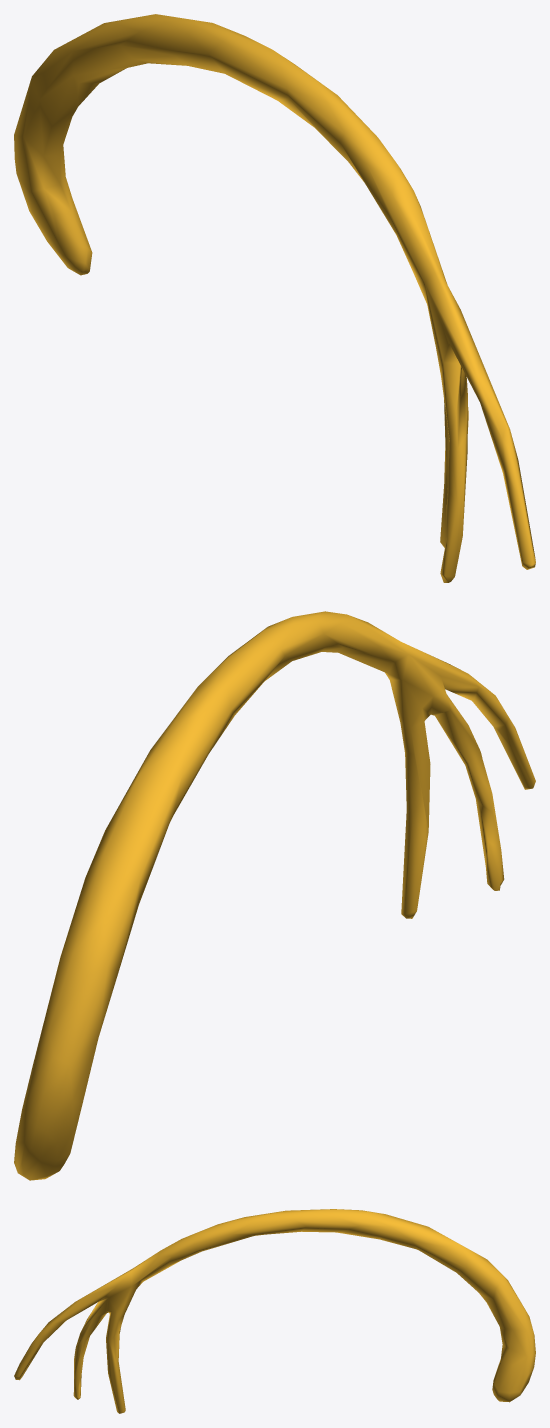
The model's file is nervoso-stria-medullaris-thalami-r.glb.
3 renders of one model, top to bottom at view 1: azimuth 30°, elevation 25°; view 2: azimuth 150°, elevation 25°; view 3: azimuth 270°, elevation 25°, orthographic. The views are drawn at different scales.
Visible parts, largest first — view 1: Stria medullaris thalami.r; view 2: Stria medullaris thalami.r; view 3: Stria medullaris thalami.r.
Part boxes in pixels (bbox=[...]): Stria medullaris thalami.r: bbox=[14, 14, 535, 582]; Stria medullaris thalami.r: bbox=[14, 611, 535, 1180]; Stria medullaris thalami.r: bbox=[14, 1209, 535, 1413].
Size of the model in its own units: 0.00369 by 0.0151 by 0.0357.
